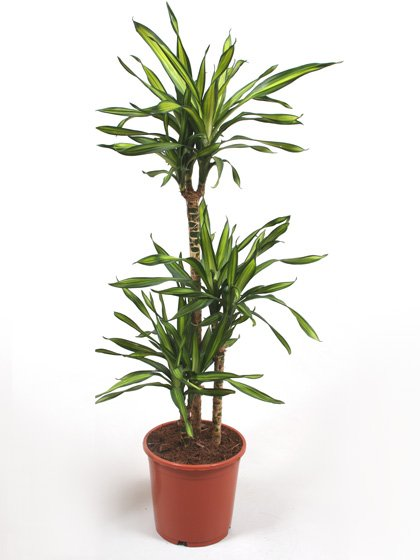plant: (56, 1, 367, 555)
